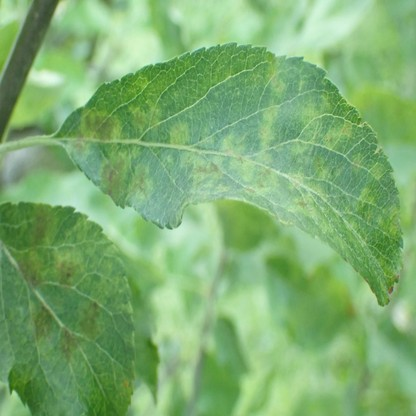frogeye_leaf_spot: (388, 286, 394, 293)
powdery_mildew: (342, 218, 388, 288)
scab: (292, 96, 330, 151), (184, 153, 226, 198), (220, 135, 253, 181), (243, 152, 278, 194), (81, 106, 120, 141), (100, 154, 130, 197), (124, 161, 152, 203), (78, 293, 103, 338), (288, 170, 313, 215), (30, 205, 56, 246), (129, 100, 161, 131), (16, 251, 42, 289), (259, 104, 278, 152), (54, 254, 82, 285), (55, 328, 80, 362), (33, 305, 53, 344), (66, 133, 88, 164), (325, 120, 353, 143), (170, 122, 191, 145), (387, 204, 402, 236), (268, 63, 285, 90), (314, 212, 333, 234), (314, 154, 327, 180), (358, 189, 374, 208), (201, 127, 214, 144), (350, 154, 363, 170), (372, 164, 384, 178), (132, 146, 141, 158), (378, 214, 384, 226)
